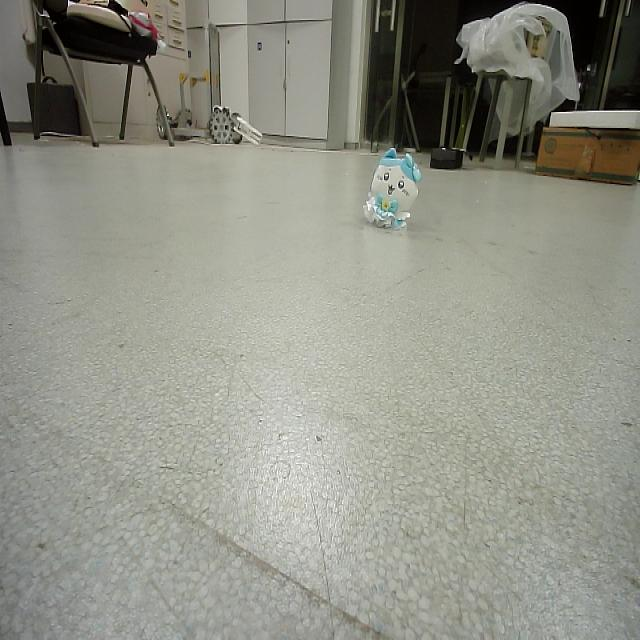xiaoba: (366, 144, 421, 238)
